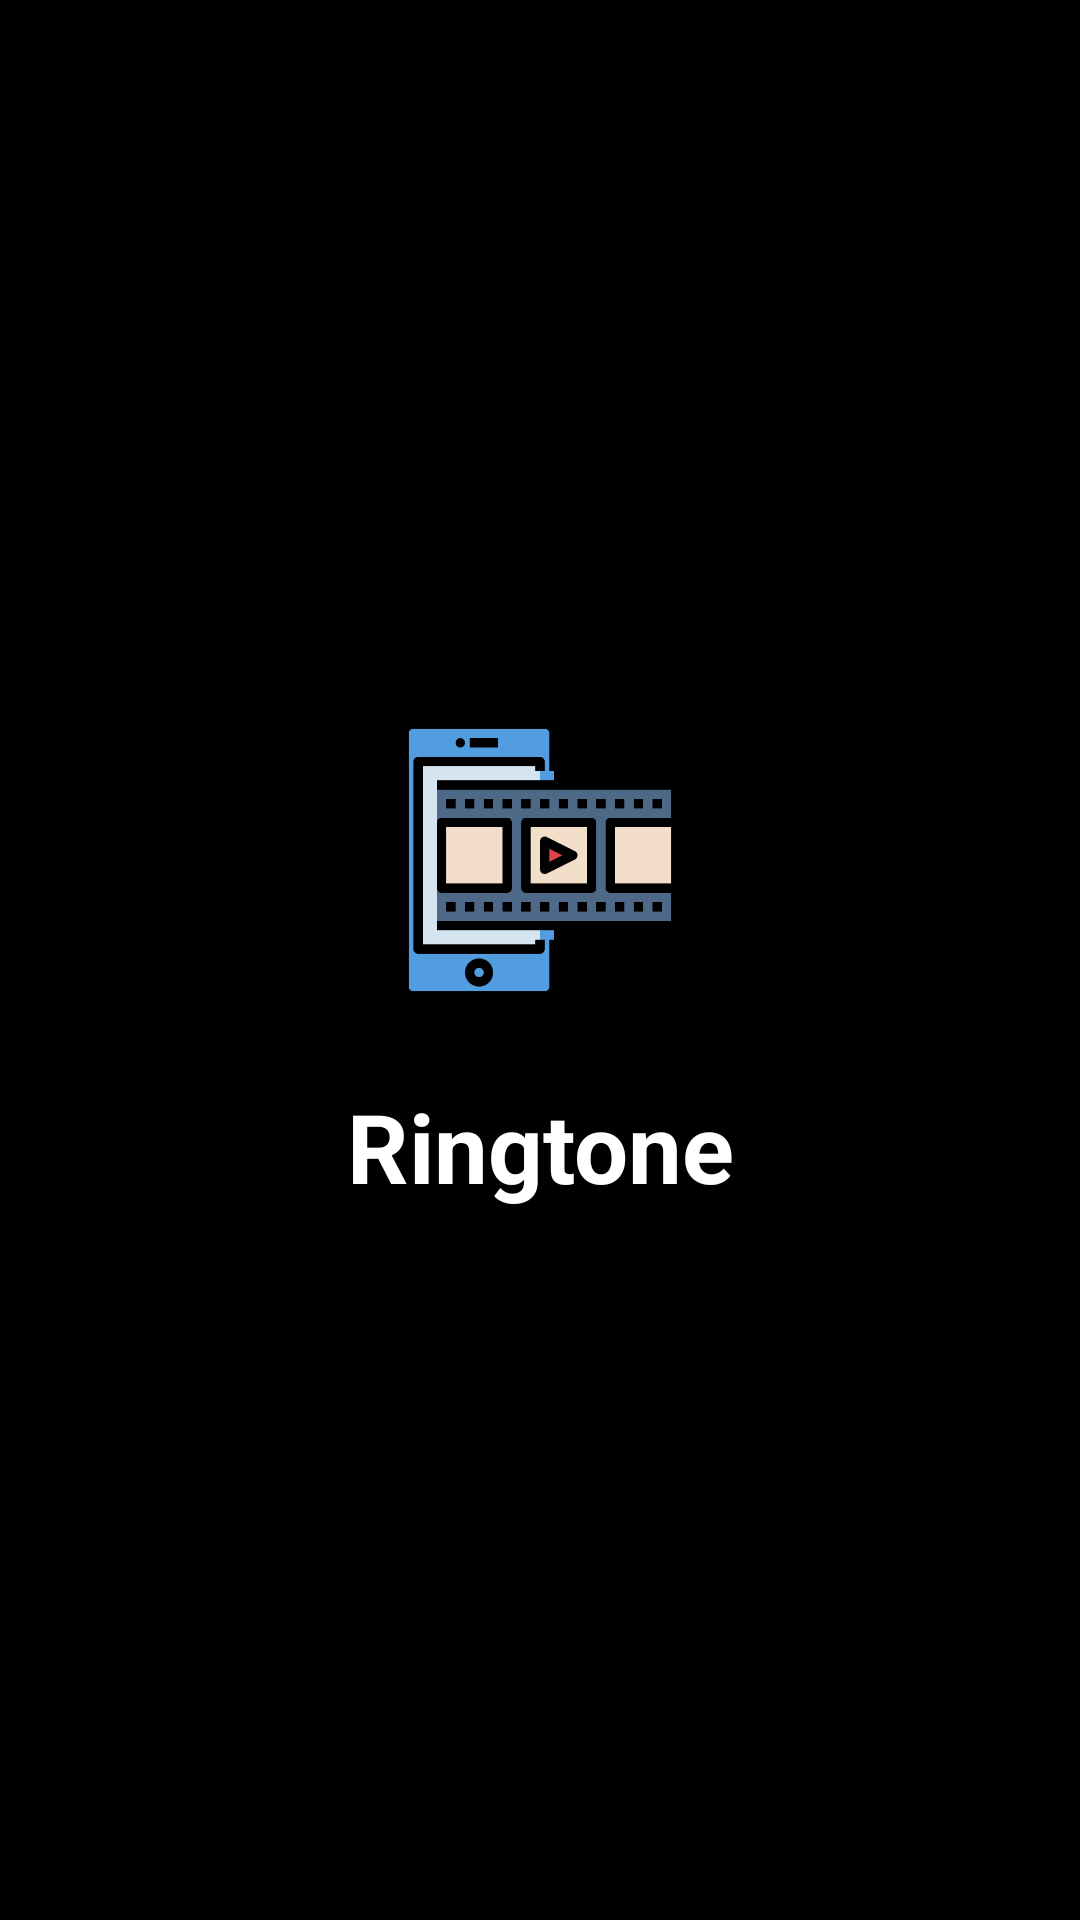

Named icons in this screenshot (1080*1920) and their centers, point (x, y):
entertainment: point (540, 860)
